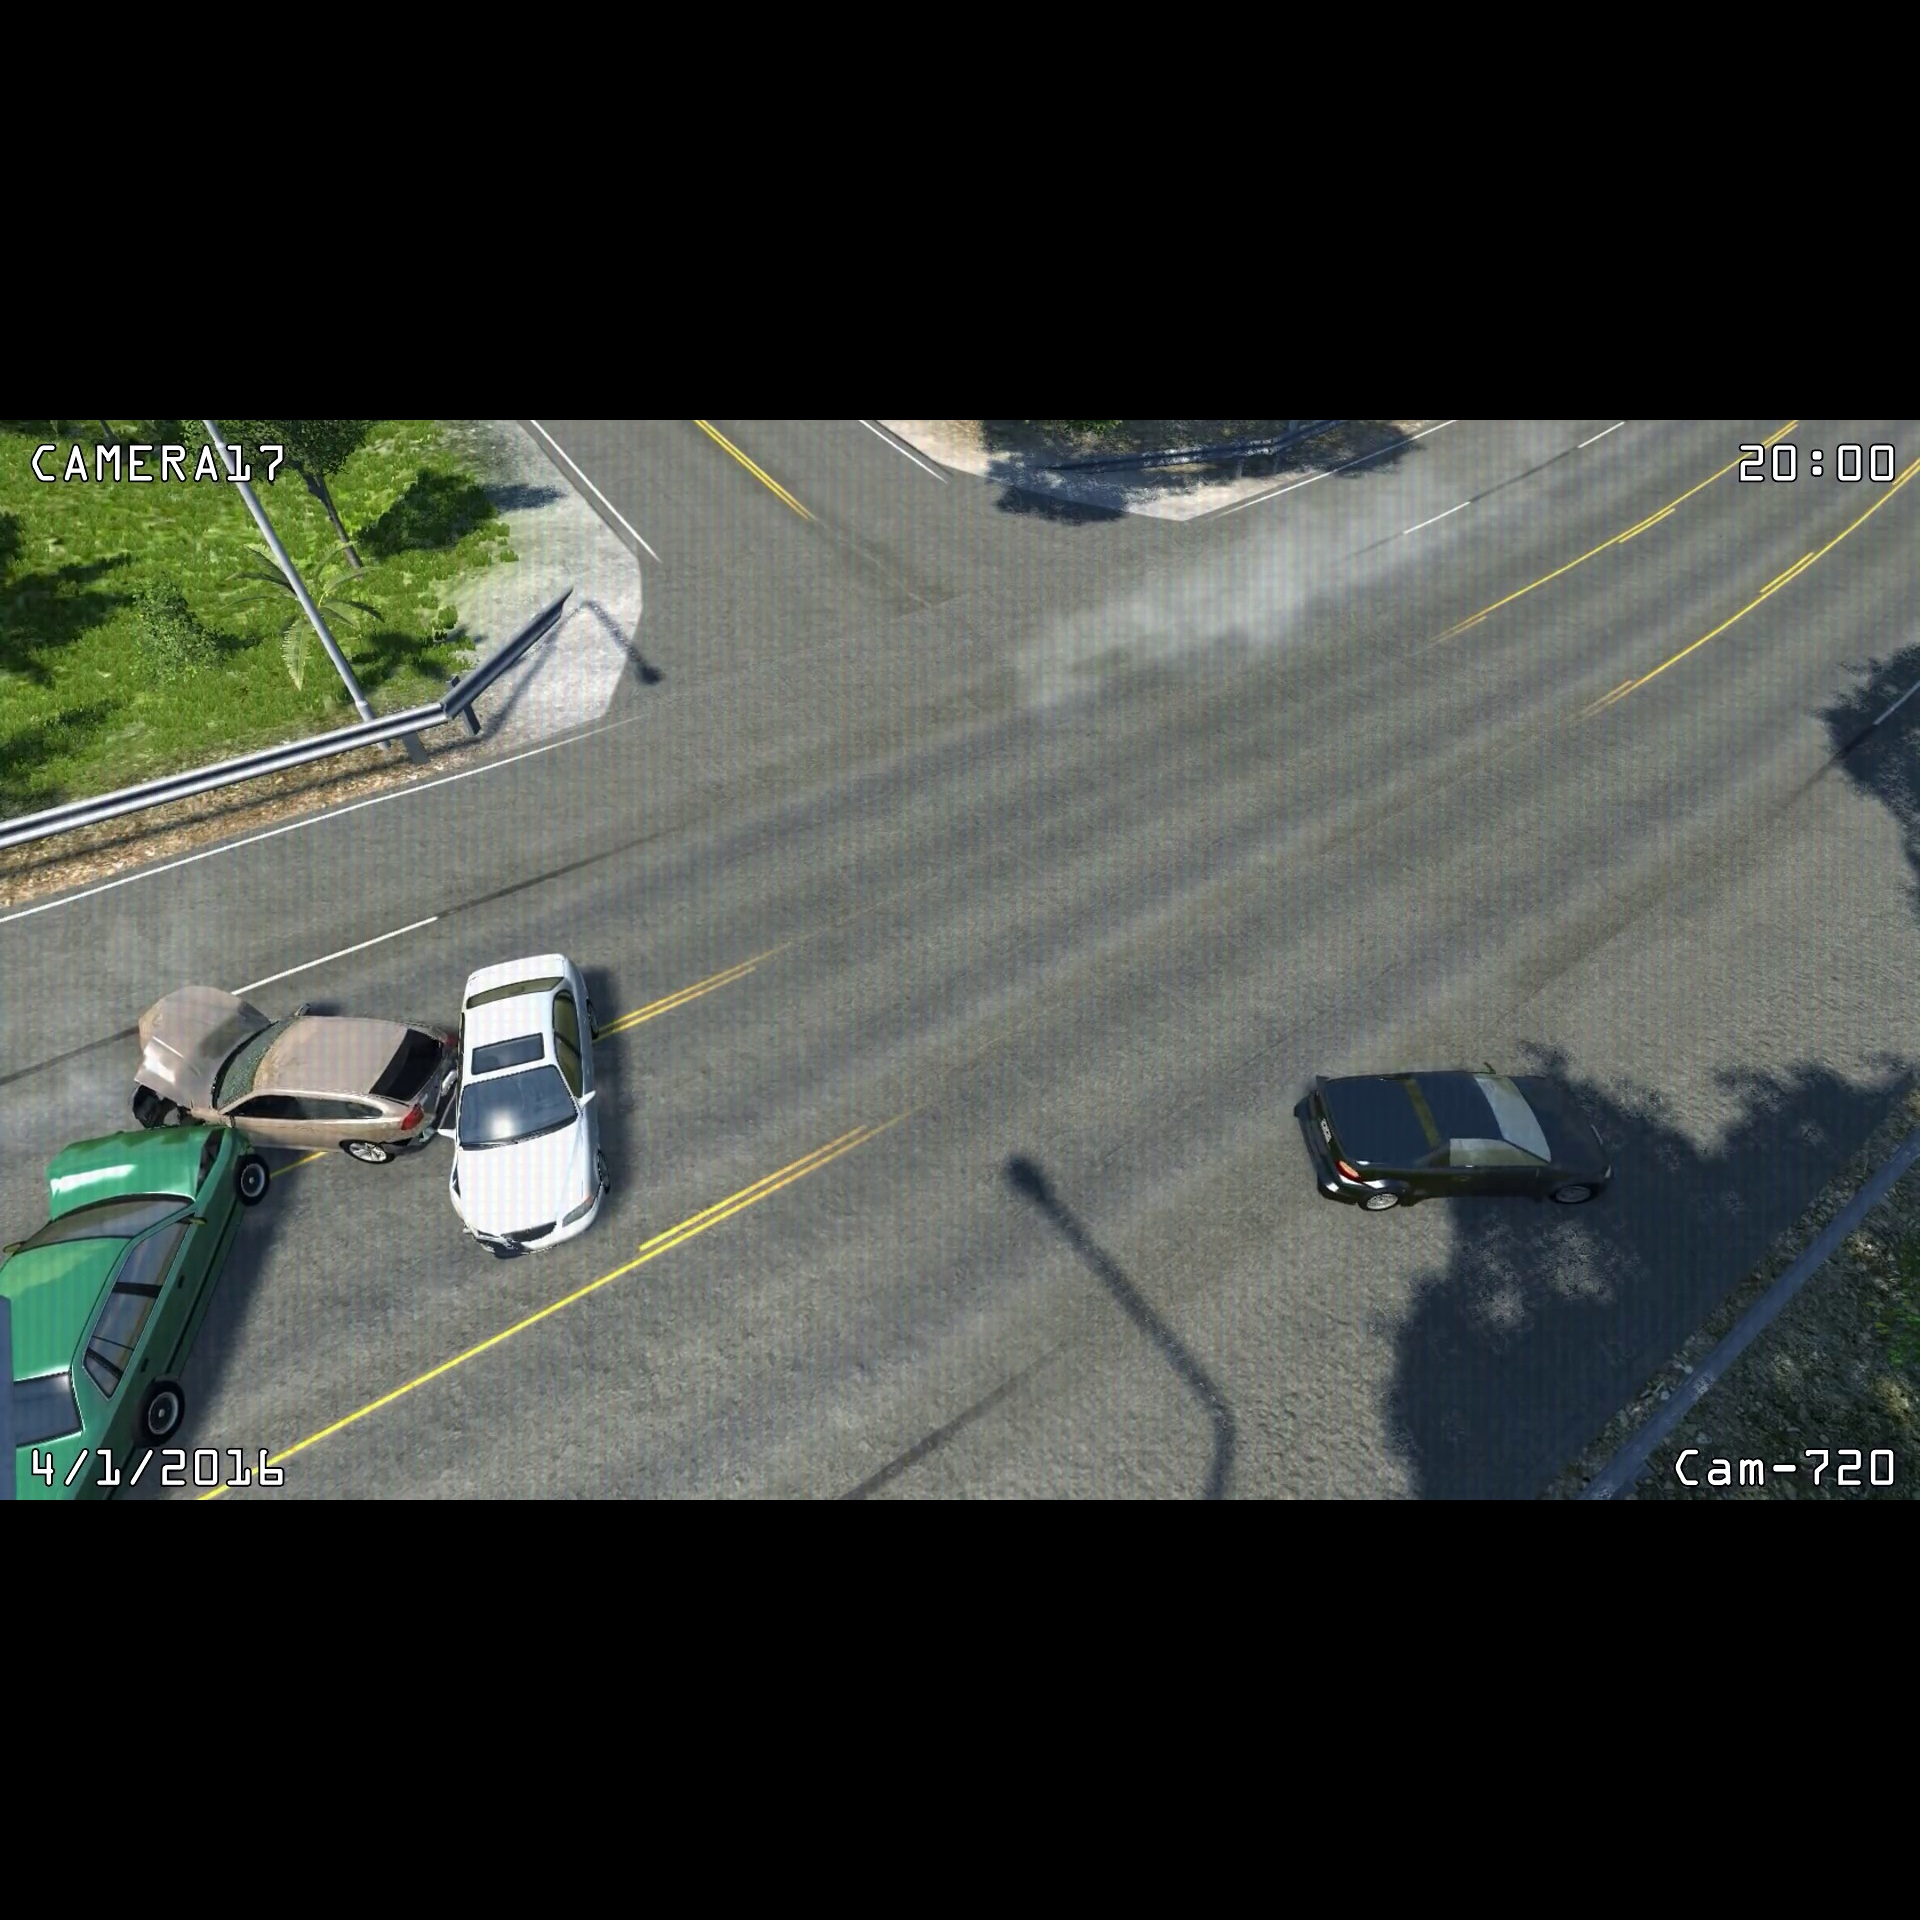vehicle: (2, 1113, 276, 1500), (118, 972, 462, 1173), (438, 944, 612, 1264), (1289, 1060, 1628, 1217)
